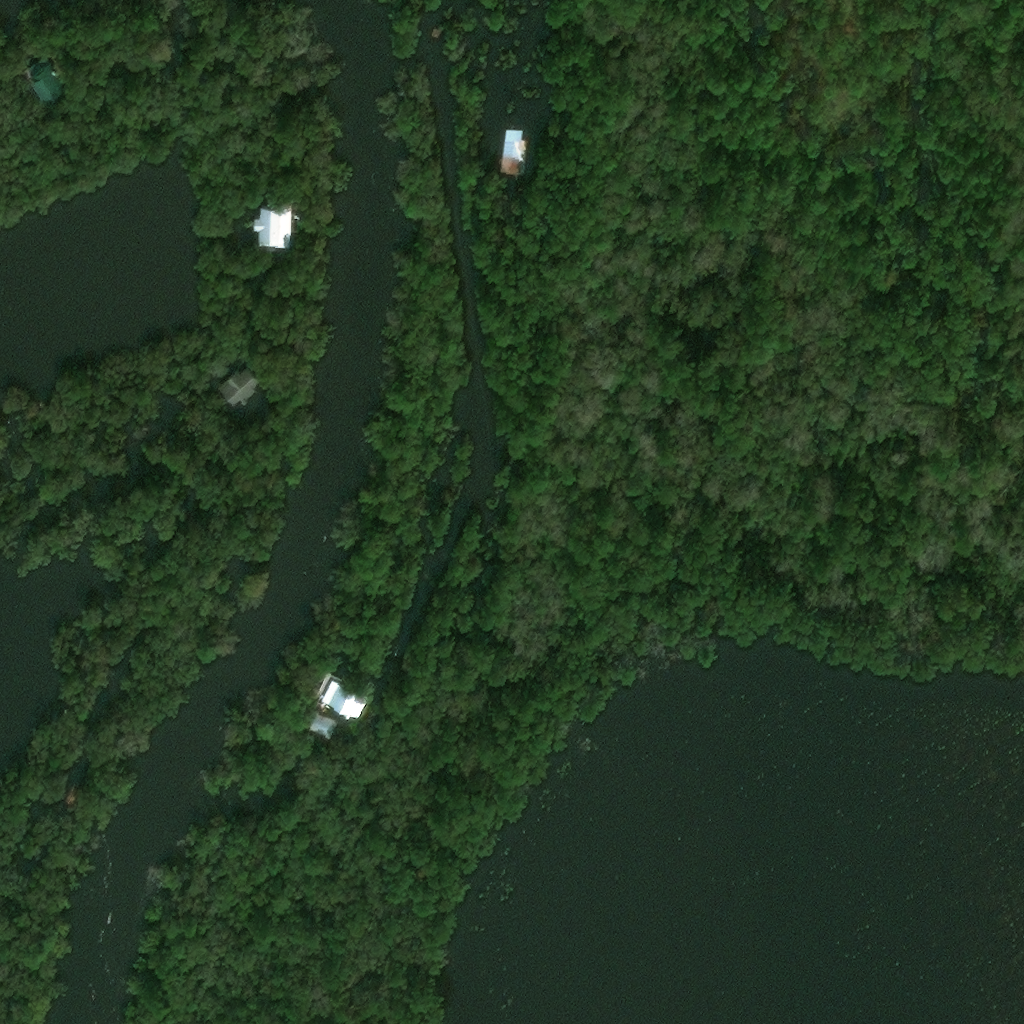major_damage: (312, 671, 367, 715), (22, 59, 63, 99), (215, 363, 258, 400), (248, 201, 286, 242), (498, 128, 530, 173), (307, 709, 340, 743)
